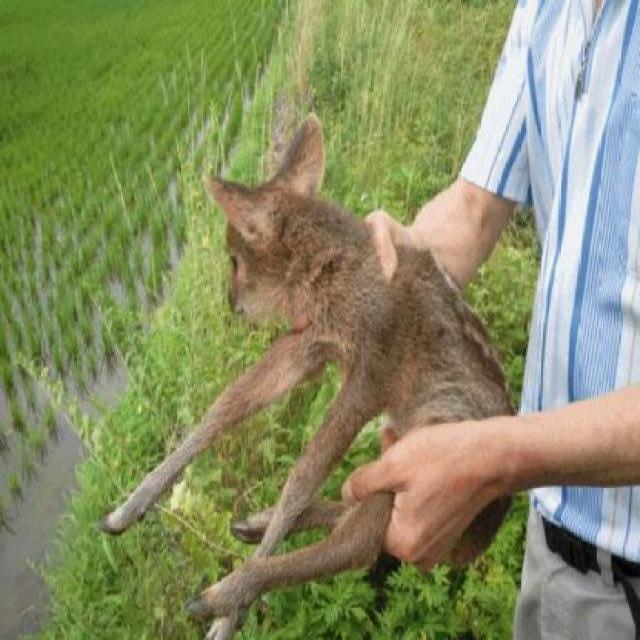deer: (92, 126, 534, 639)
